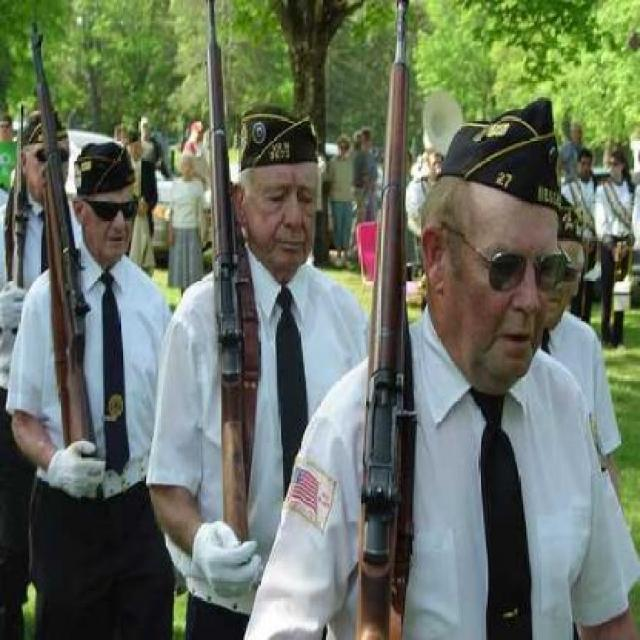weapon: (18, 28, 110, 494), (198, 0, 271, 563), (374, 2, 426, 638)
